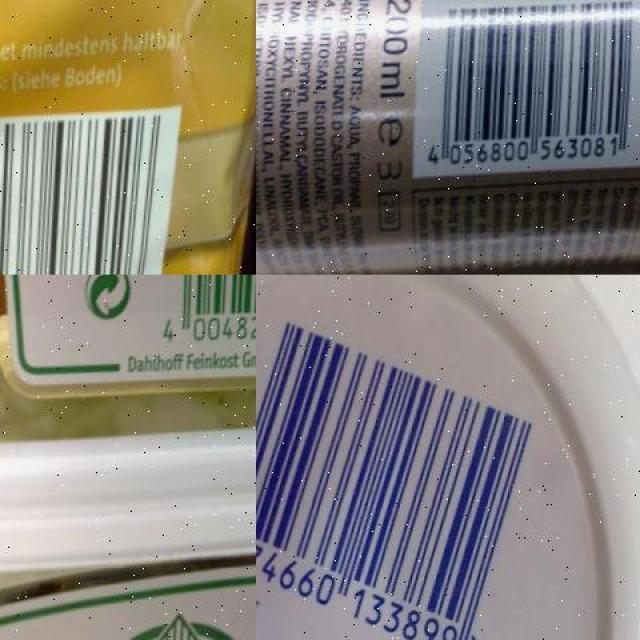Barcode: (256, 281, 565, 640), (416, 0, 640, 179), (0, 112, 181, 274), (148, 274, 256, 354)
